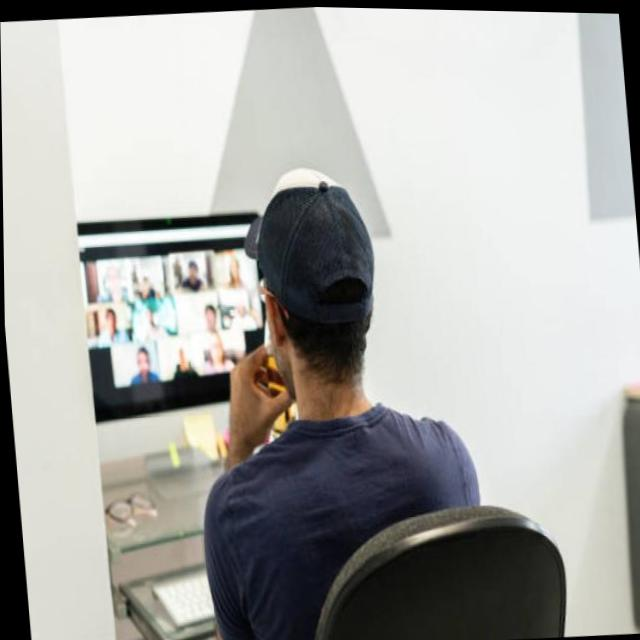no helmet: (232, 148, 398, 439)
